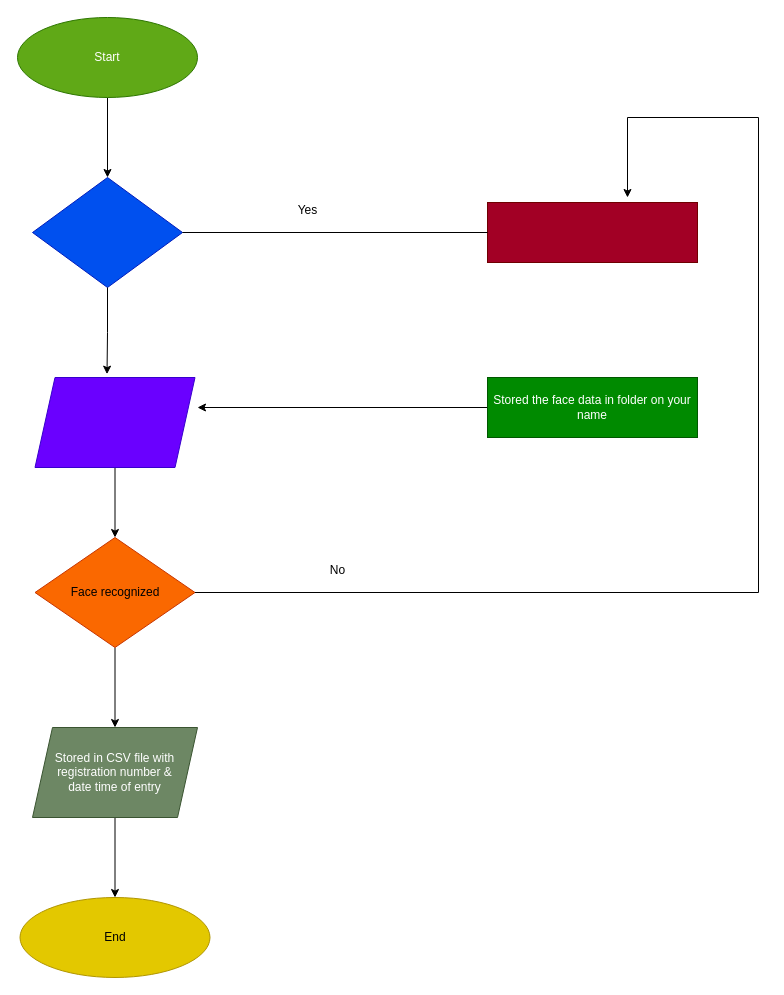
This 784x995 diagram has some shape labels left out. Each missing label, with the centre of its shape:
"Give your photograph" goes at (x=592, y=232).
"New user" goes at (x=107, y=232).
"Recognize the face" goes at (x=114, y=422).
